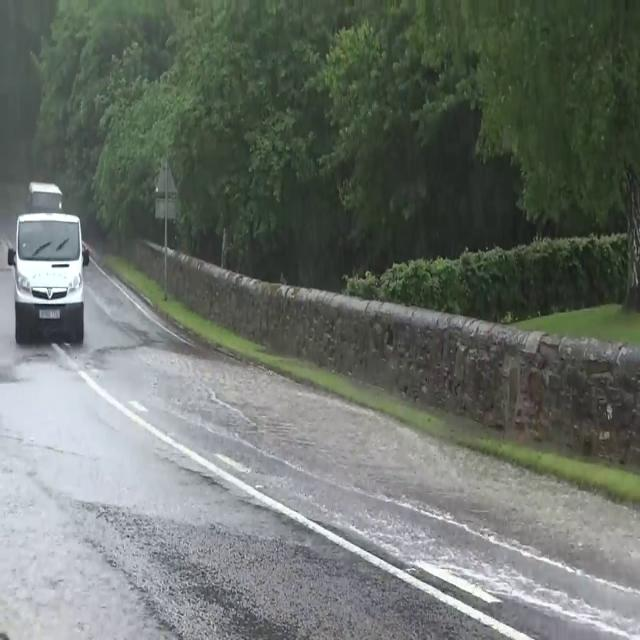license-plate-annotation: (34, 306, 64, 324)
